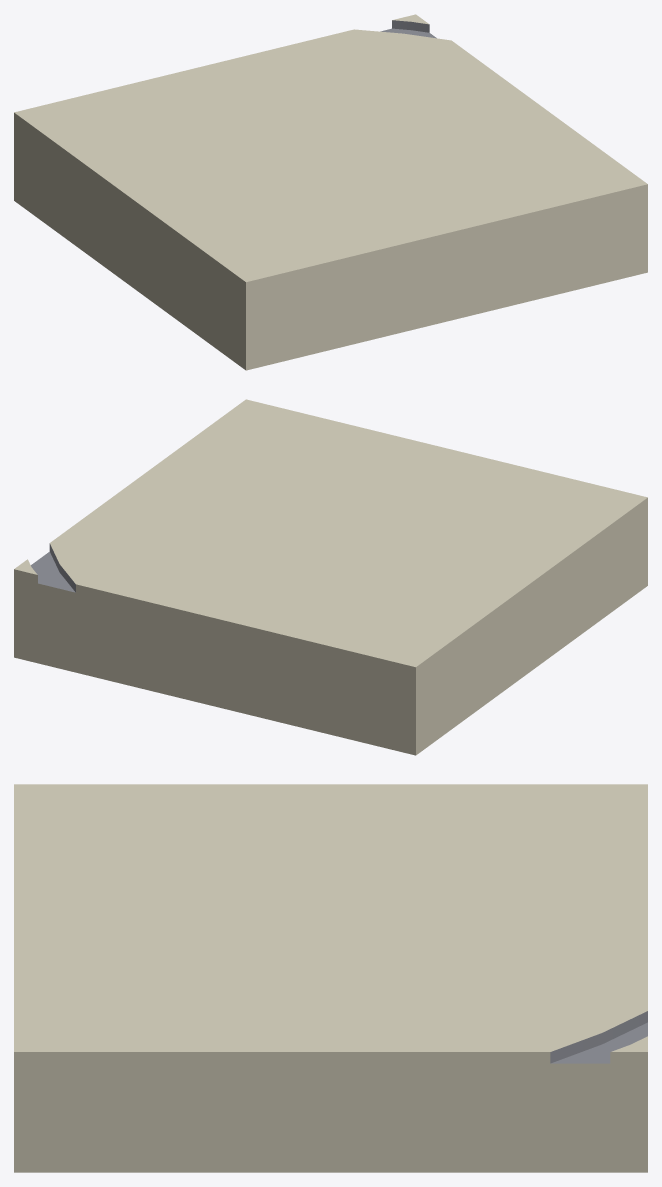
Rendered from tile243.fbx.
The picture shows the model from 3 angles, top to bottom: view 1: azimuth 30°, elevation 25°; view 2: azimuth 150°, elevation 25°; view 3: azimuth 270°, elevation 25°; orthographic projection. The views are drawn at different scales.
Parts seen in each view (by area): view 1: tile243; view 2: tile243; view 3: tile243.
Part boxes in pixels (bbox=[...]): tile243: bbox=[14, 14, 647, 370]; tile243: bbox=[14, 399, 647, 755]; tile243: bbox=[14, 784, 647, 1172].
Bounding box in the file's own units: 10 × 2.1 × 10.
